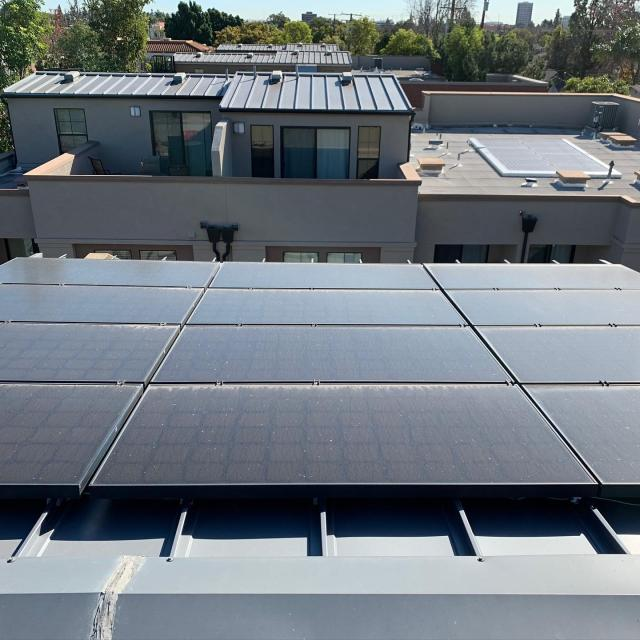dust-solar-panel: (0, 257, 640, 487)
